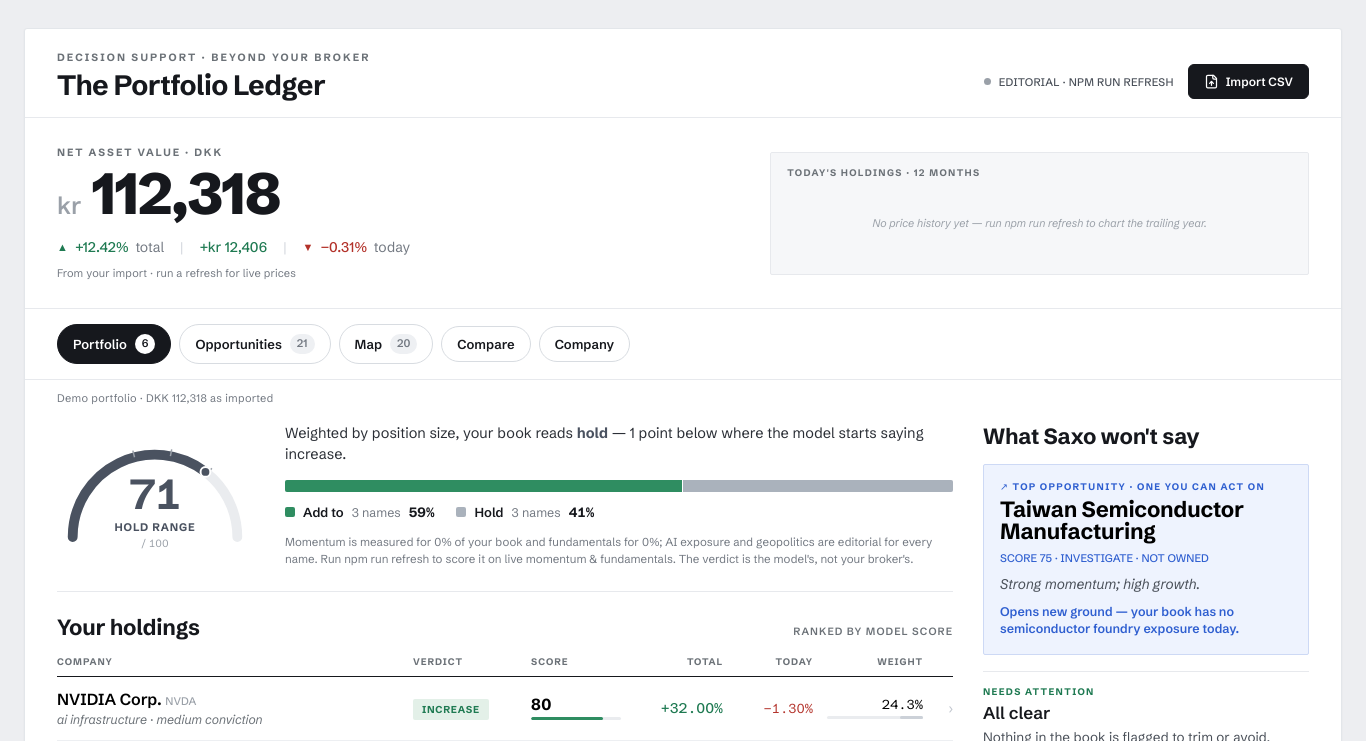
App › picks a directory suggestion with the keyboard (arrow down, enter)
Click the button "Opportunities 21".
click(255, 344)  # box [180,324,331,364]
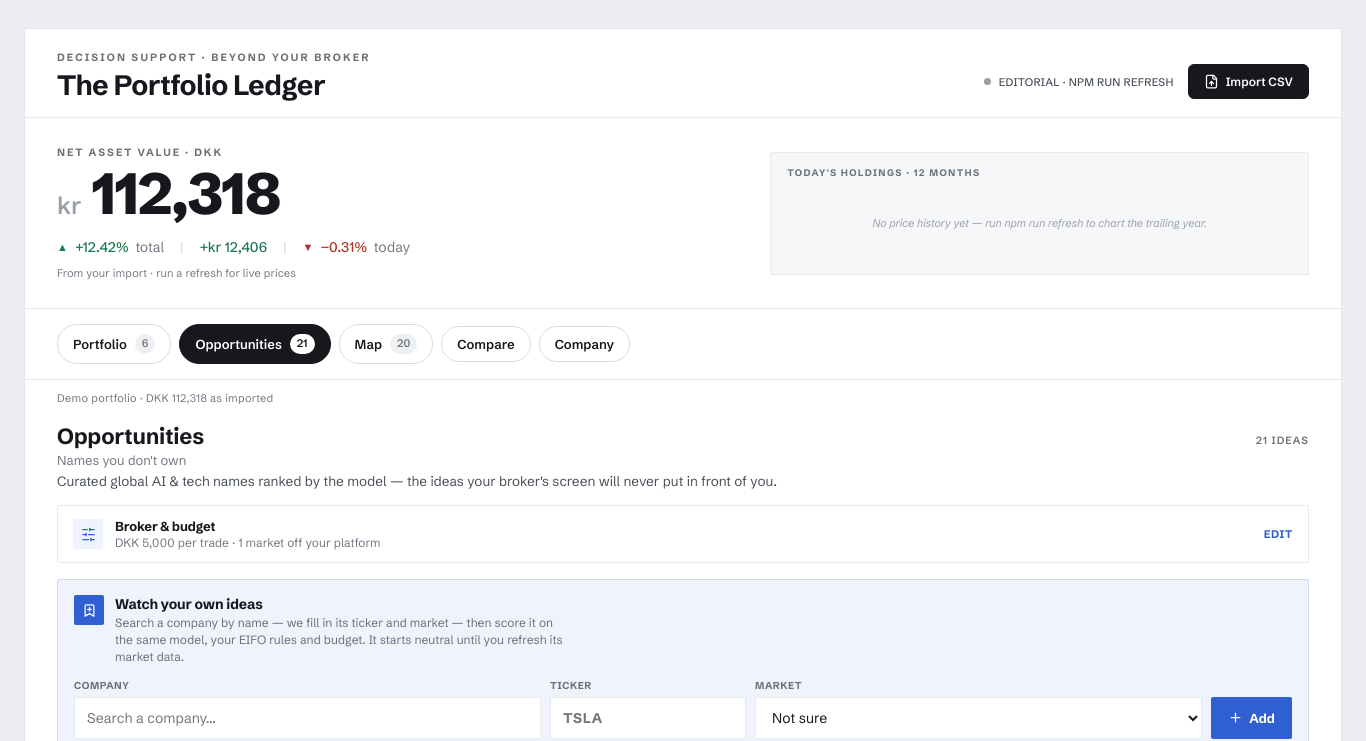
Type "infineon" into the dropdown named "company name".
click(308, 718); type("infineon")  # box [74,696,541,738]
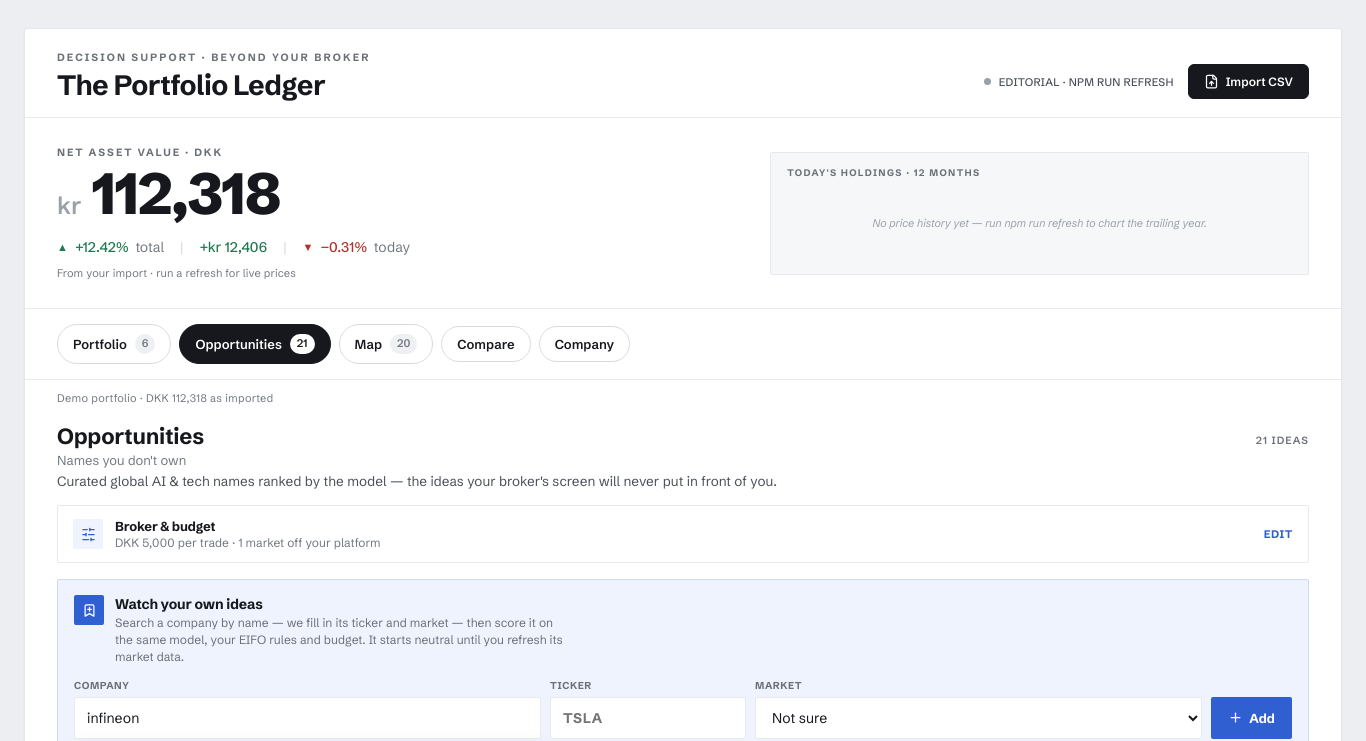
Press ArrowDown in the dropdown named "company name", box [74,696,541,738]
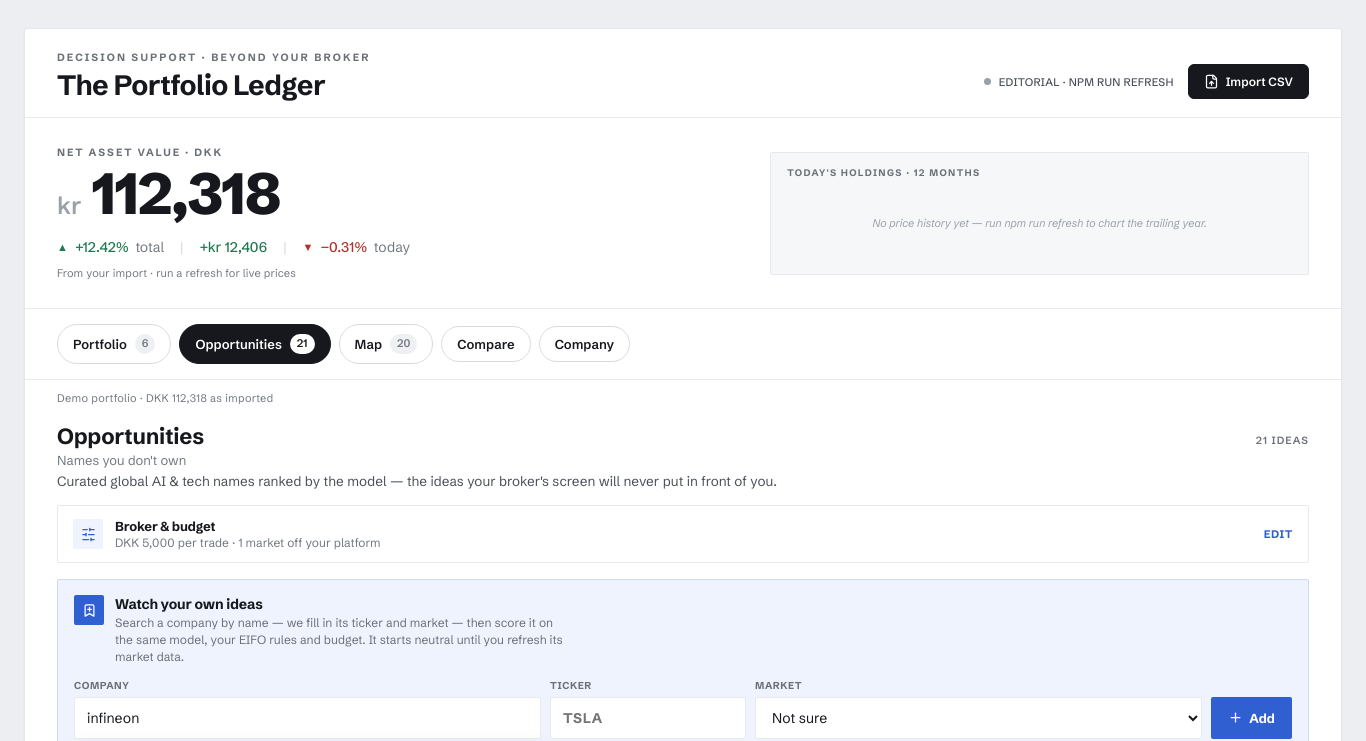
Press Enter in the dropdown named "company name", box [74,696,541,738]
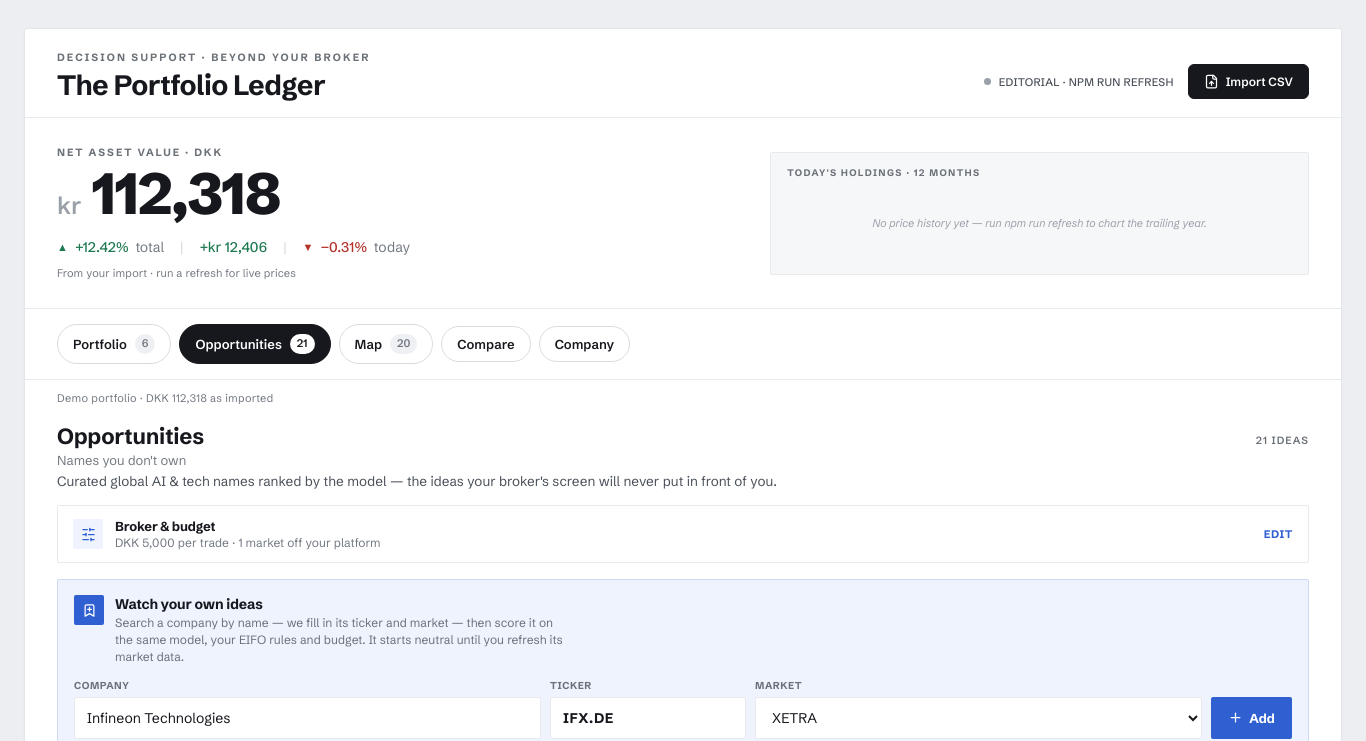
expect the field named "ticker symbol" holds "IFX.DE": met, box [550,696,746,738]
expect the dropdown named "listing market" shows "XETRA": met, box [755,696,1202,738]
